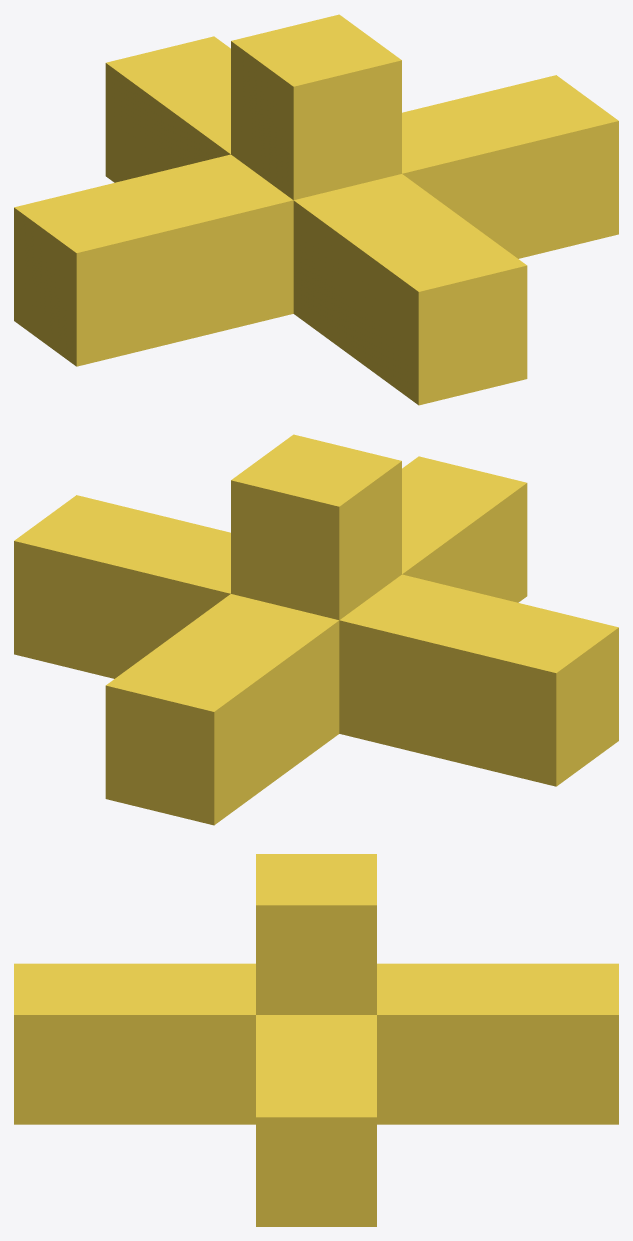
The model's file is sea-star.obj.
3 views of the same model, one above another, from view 1: azimuth 30°, elevation 25°; view 2: azimuth 150°, elevation 25°; view 3: azimuth 270°, elevation 25° (orthographic). The views are drawn at different scales.
Size of the model in its own units: 5 by 2 by 5.
Materials: 1 (1 with a texture image).
